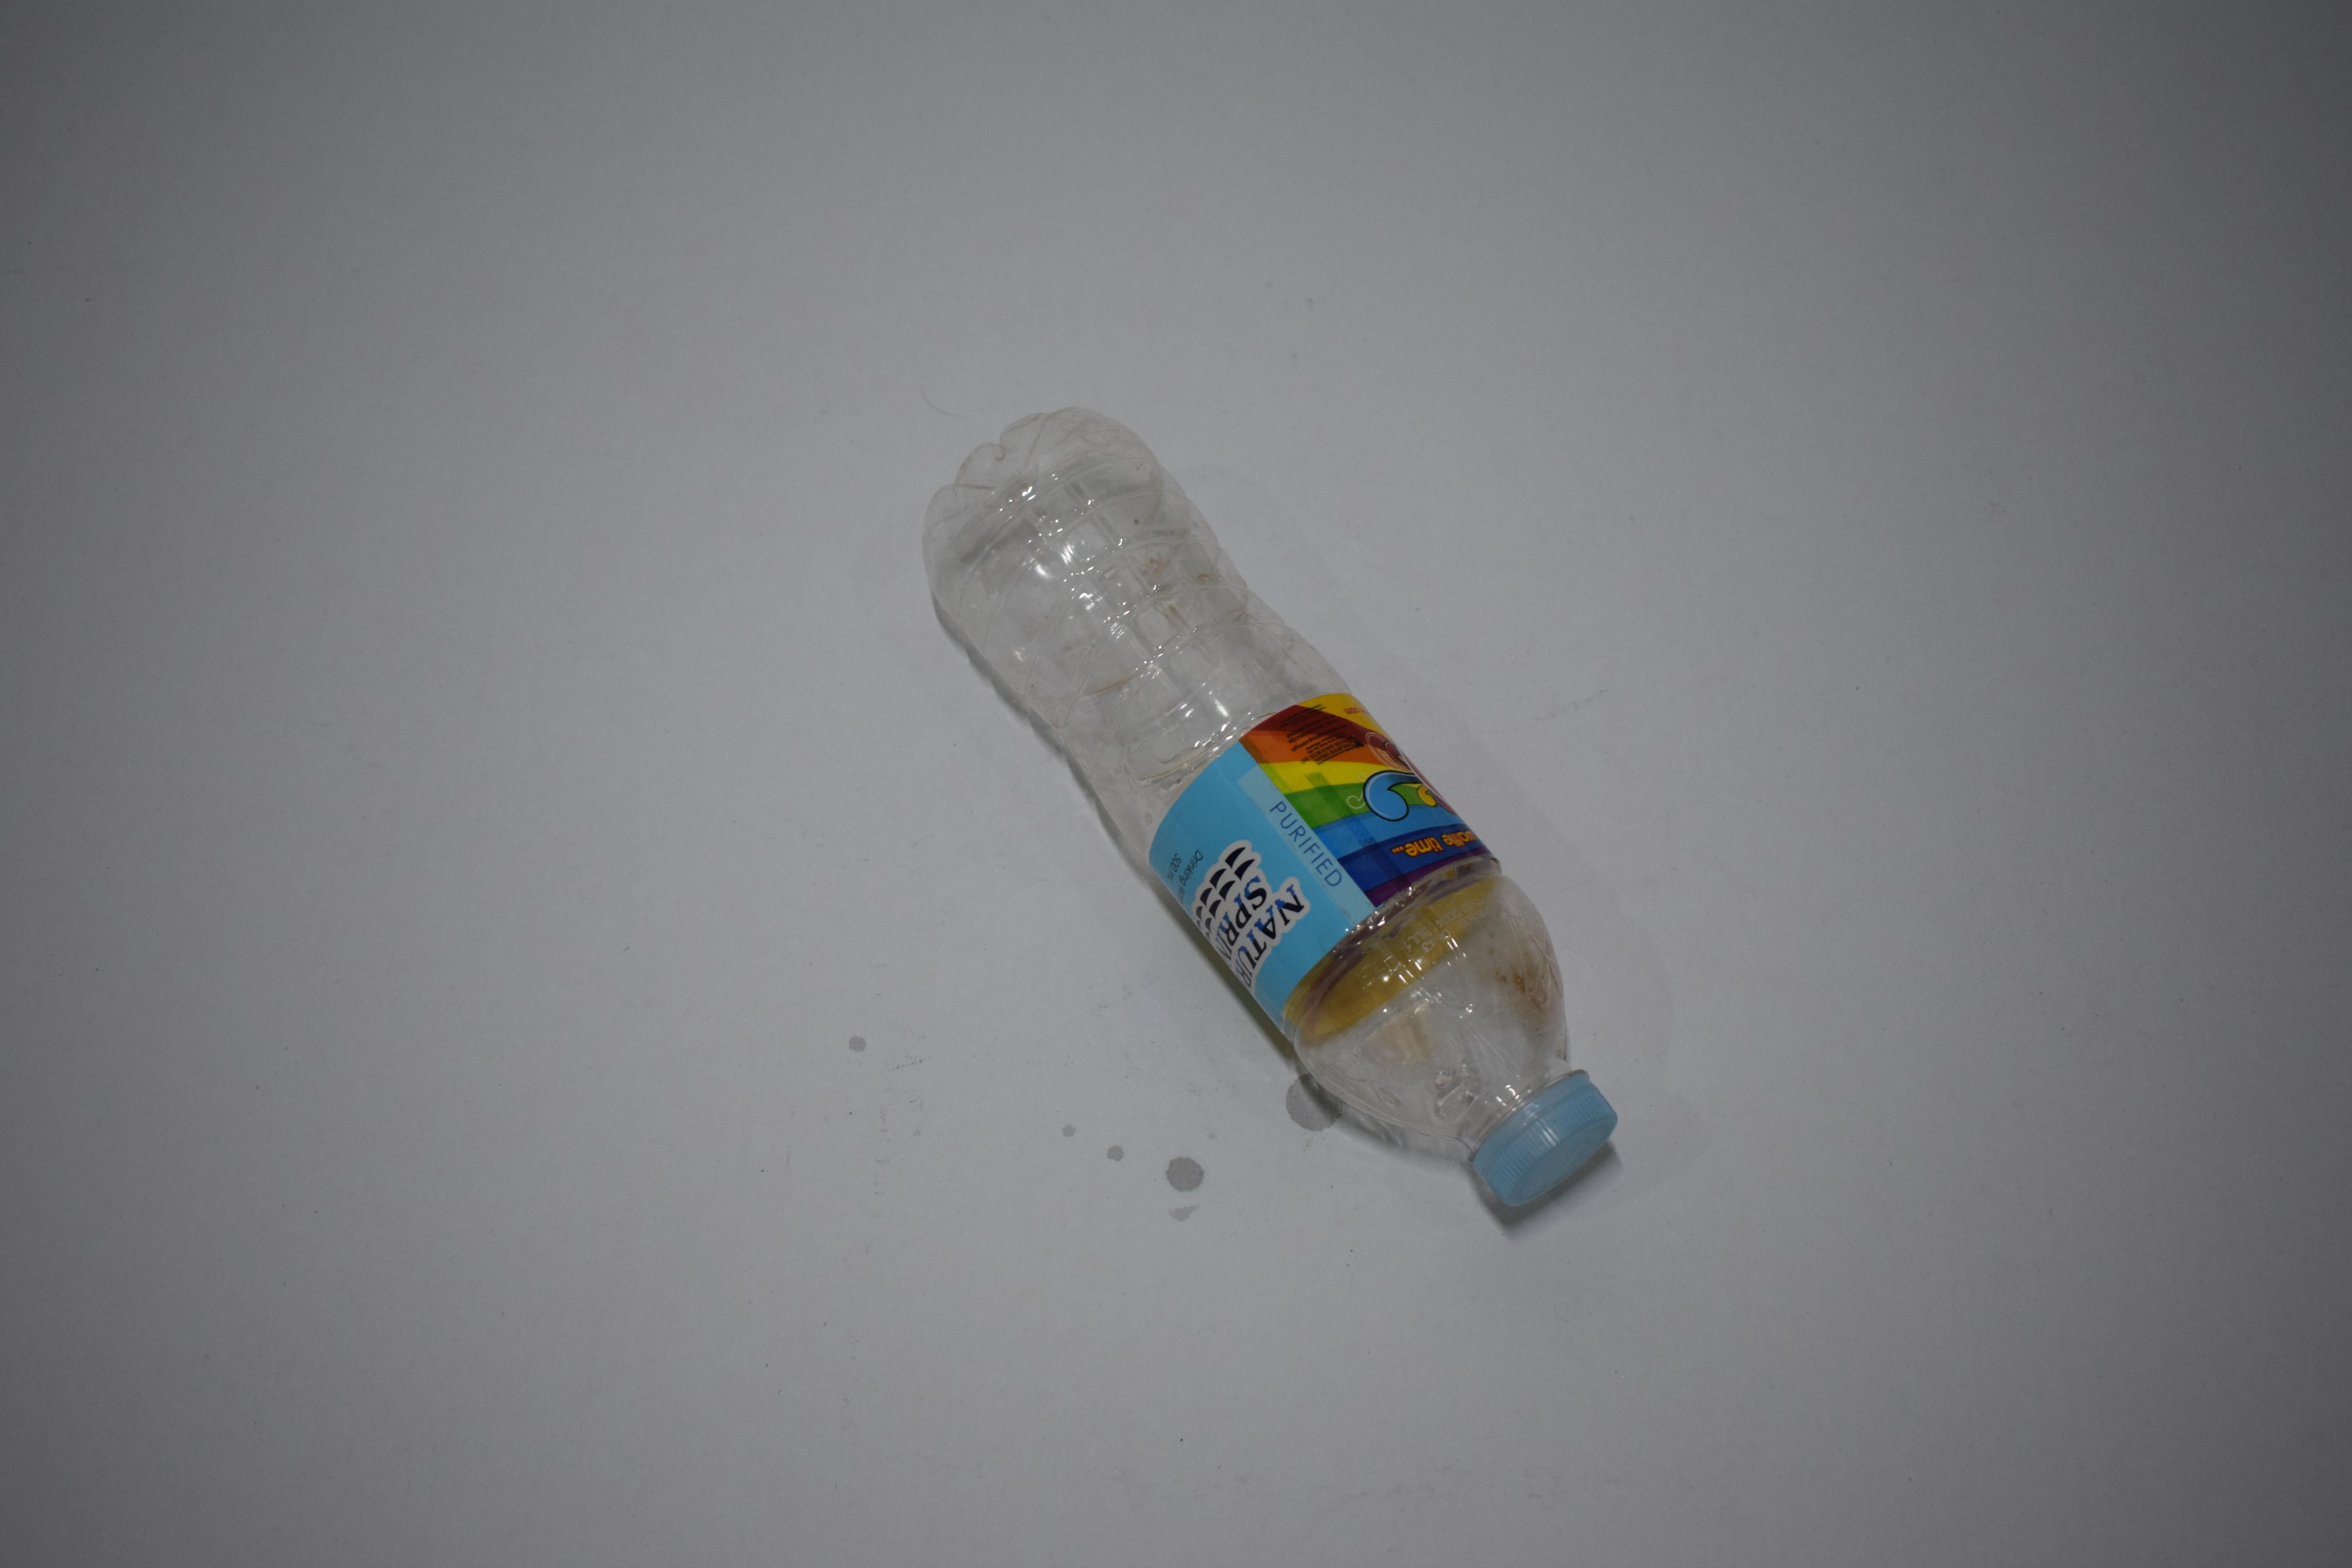bottle: (0, 4, 445, 63)
